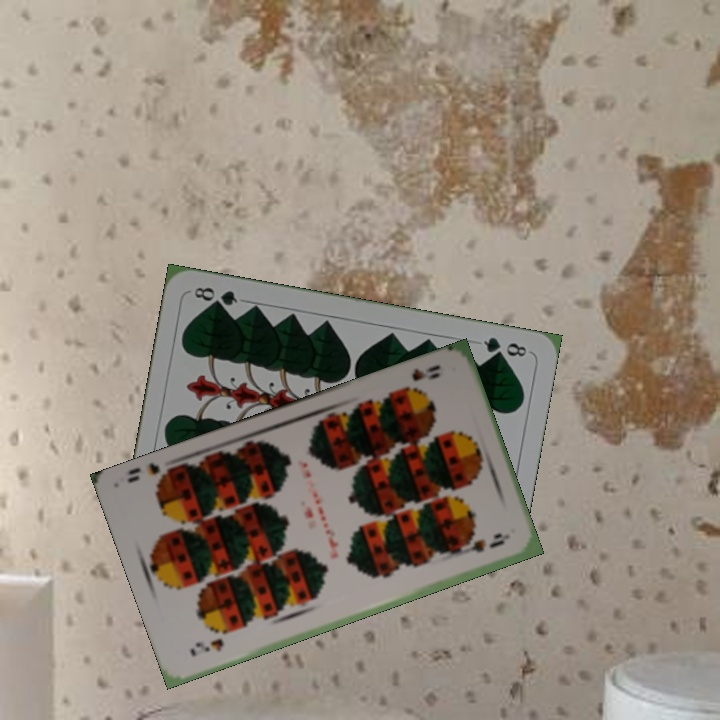G8: (479, 333, 530, 359)
S9: (394, 360, 443, 396), (186, 634, 226, 659)
